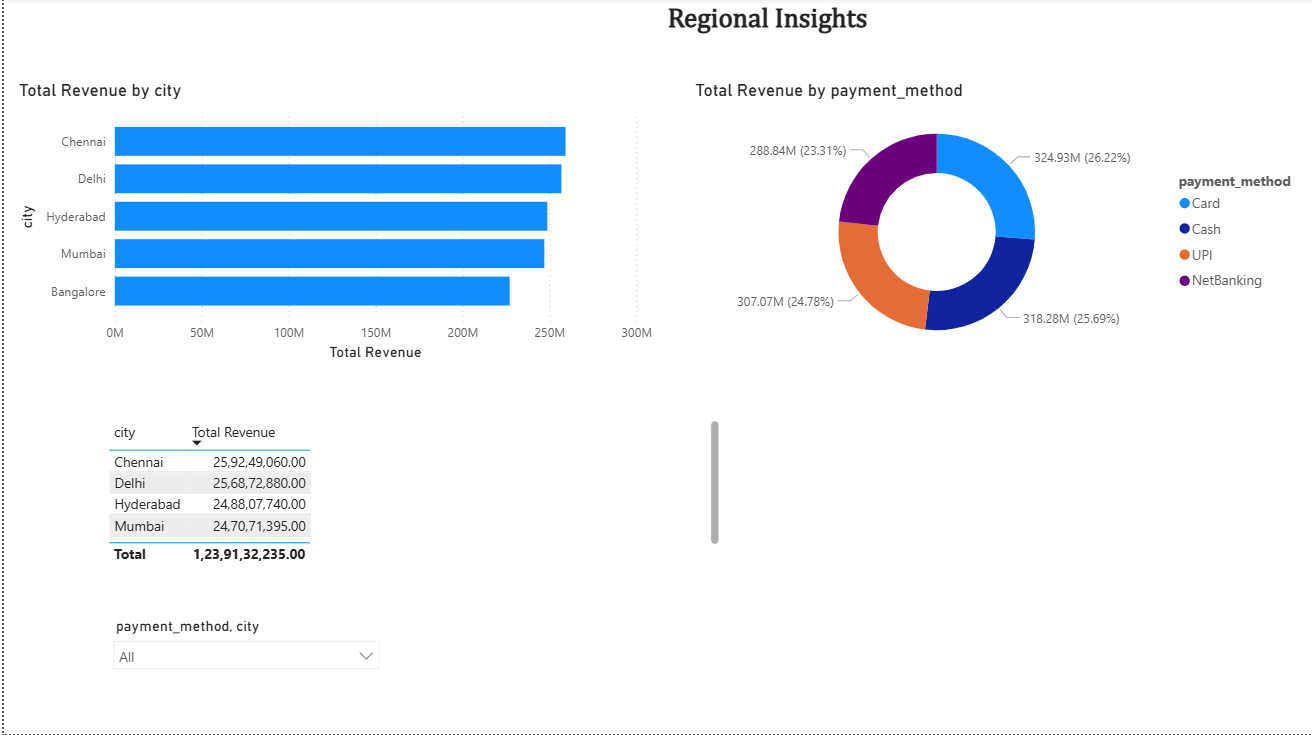

Layout of this report page (visuals, bound fields, positions):
{"tool":"powerbi","page":{"name":"Regional Insights","canvas":[1280,720],"ordinal":2},"visuals":[{"type":"clusteredBarChart","fields":{"Category":["cleaned_retail_data.city"],"Y":["cleaned_retail_data.Total Revenue"]},"box":[10,80,630,280],"z":0},{"type":"donutChart","fields":{"Category":["cleaned_retail_data.payment_method"],"Y":["cleaned_retail_data.Total Revenue"]},"box":[671.4,80,608.6,280],"z":1000},{"type":"tableEx","fields":{"Values":["cleaned_retail_data.city","cleaned_retail_data.Total Revenue"]},"box":[97.1,408.6,608.6,150],"z":2000},{"type":"slicer","fields":{"Values":["cleaned_retail_data.payment_method","cleaned_retail_data.city"]},"box":[97.1,600,280,120],"z":3000},{"type":"textbox","box":[460,0,574.3,52.9],"z":4000}]}

Visuals, with their boxes in screenshot pixels (x1, y1, x2, y2), scaled from the page's 1280x720 canvas onto the 1312x735 screenshot:
clusteredBarChart - cleaned_retail_data.city x cleaned_retail_data.Total Revenue: select_region(10, 82, 656, 368)
donutChart - cleaned_retail_data.payment_method x cleaned_retail_data.Total Revenue: select_region(688, 82, 1311, 368)
tableEx - cleaned_retail_data.city x cleaned_retail_data.Total Revenue: select_region(100, 417, 723, 570)
slicer - cleaned_retail_data.payment_method x cleaned_retail_data.city: select_region(100, 612, 387, 734)
textbox: select_region(471, 0, 1060, 54)
